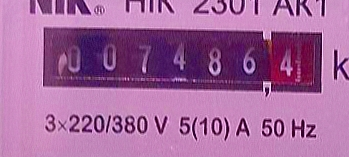0: (63, 41, 83, 75), (100, 39, 119, 73)
4: (169, 38, 188, 73), (277, 44, 294, 79)
6: (240, 44, 259, 76)
7: (132, 41, 155, 74)
8: (206, 44, 223, 79)
screen: (32, 15, 332, 104)
